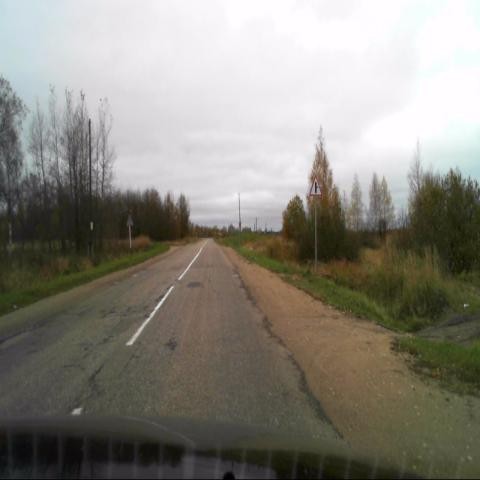2_3_2: (310, 175, 322, 197)
